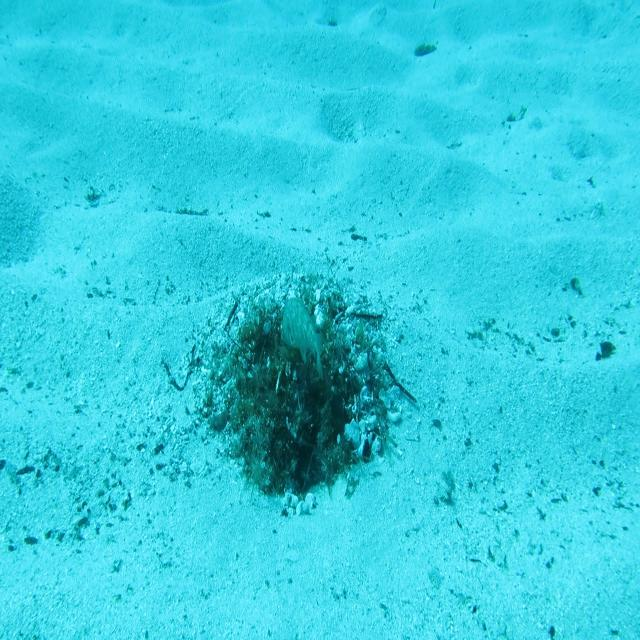NIP_CORE: (278, 294, 324, 383)
core_nest: (264, 326, 318, 366)
nest: (176, 263, 413, 527)
vegetation: (413, 40, 438, 61)
